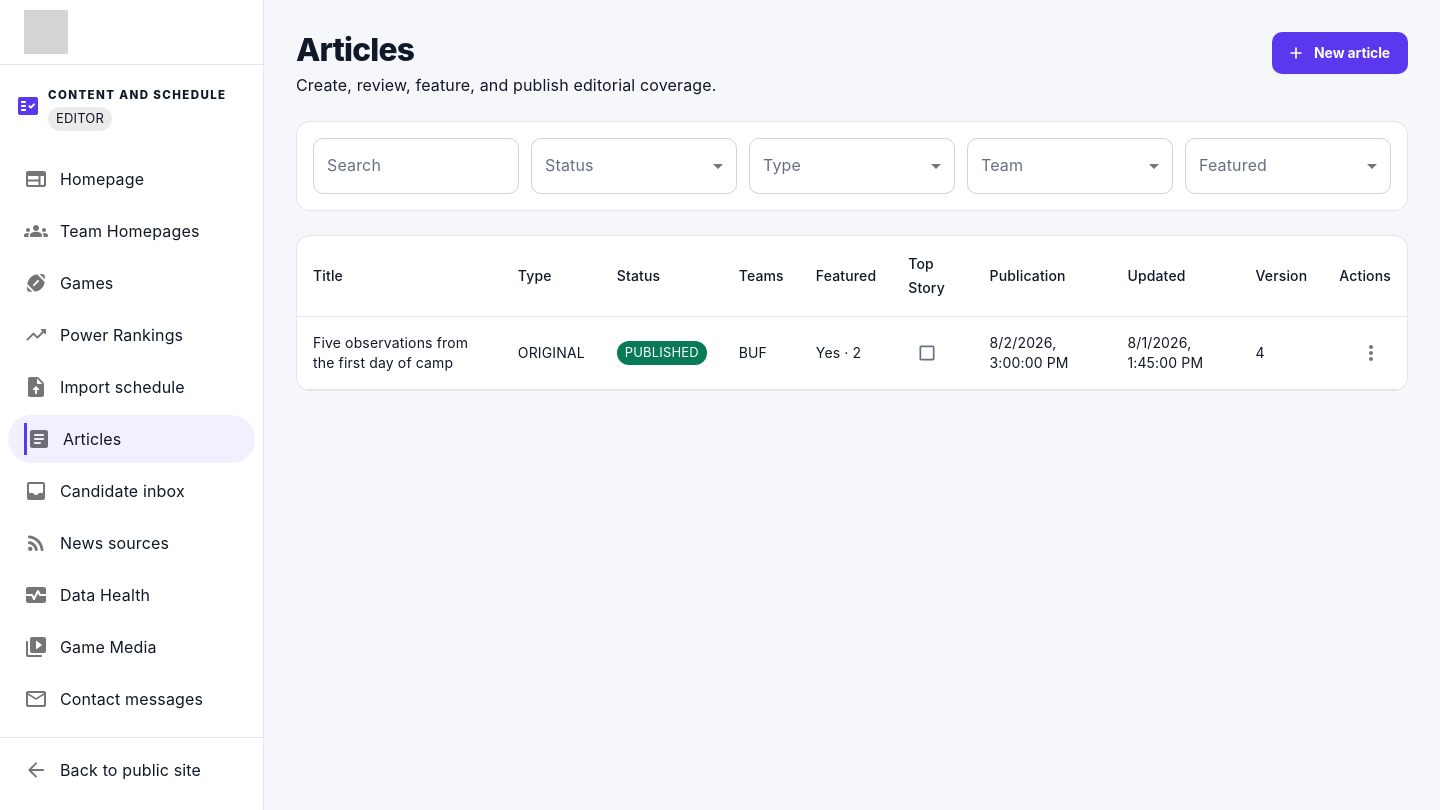
Admin Article actions › shows Unpublish to EDITOR users but never renders permanent deletion
The image size is (1440, 810).
What coordinates should you click on to do the following:
click the button named "Open actions for Five observations from the first day of cam"
I would click on:
 (1371, 353)
Its box is x1=1351 y1=333 x2=1391 y2=373.
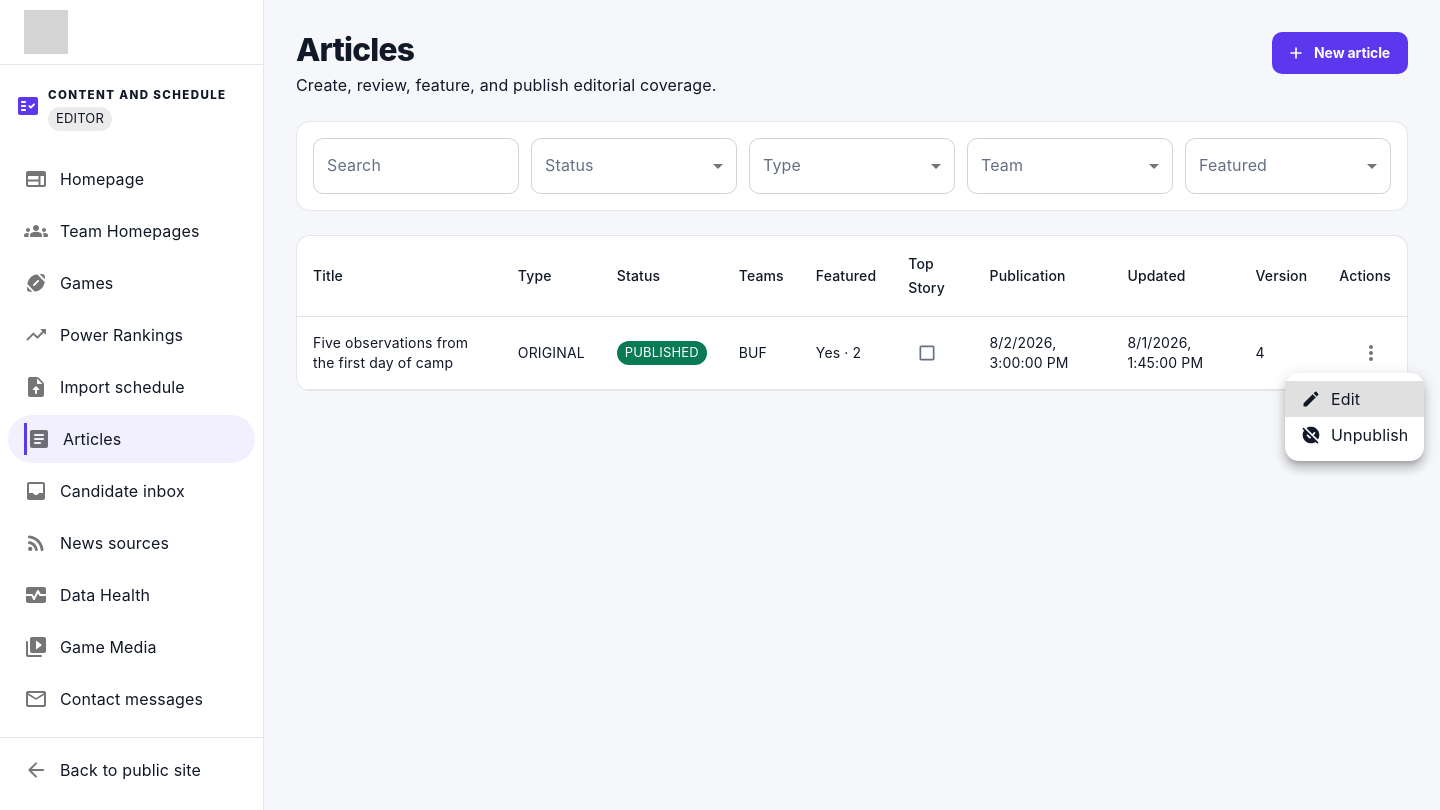
Result: the menu item "Unpublish" is shown at x1=1301 y1=425 x2=1408 y2=445
